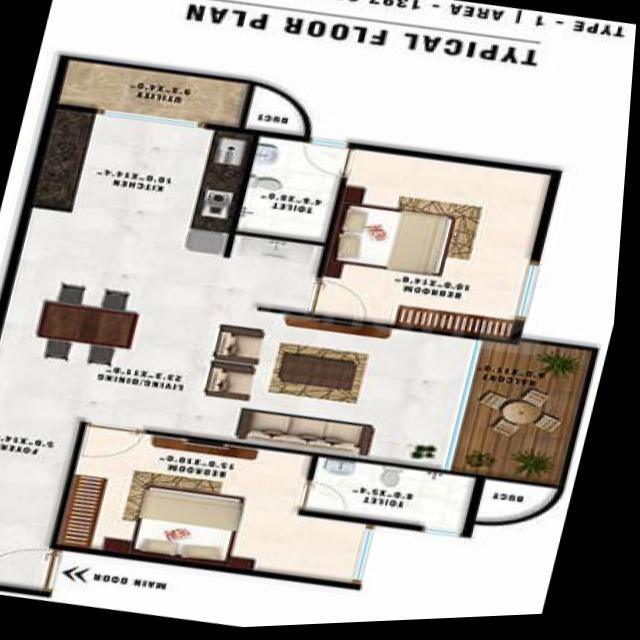Balcony-Sitout: (463, 346, 598, 488)
Bedroom with Toilet: (64, 424, 487, 590), (237, 134, 554, 346)
Dining: (29, 277, 153, 373)
Enterance-Foyer: (0, 412, 92, 594)
Kitchen: (39, 107, 253, 233)
Living: (228, 311, 478, 472)
Toilet: (309, 460, 482, 535), (237, 137, 351, 245)
Utility: (59, 60, 252, 128)
